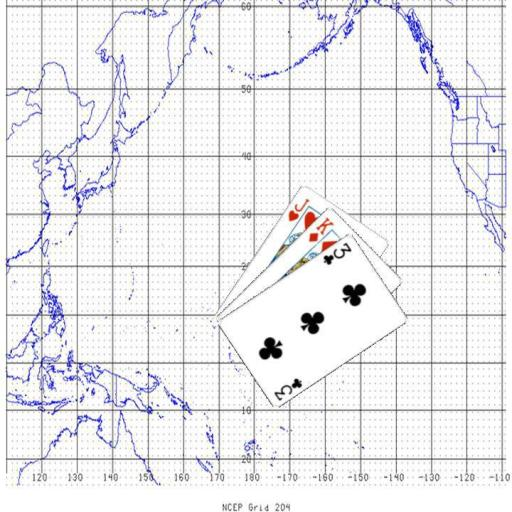card-corner: (305, 214, 336, 244), (320, 239, 353, 266), (271, 375, 304, 402), (284, 195, 311, 222)
